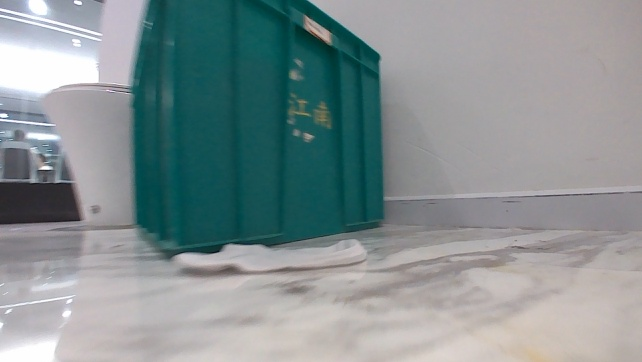socks: (169, 234, 367, 276)
toilet: (40, 78, 136, 230)
